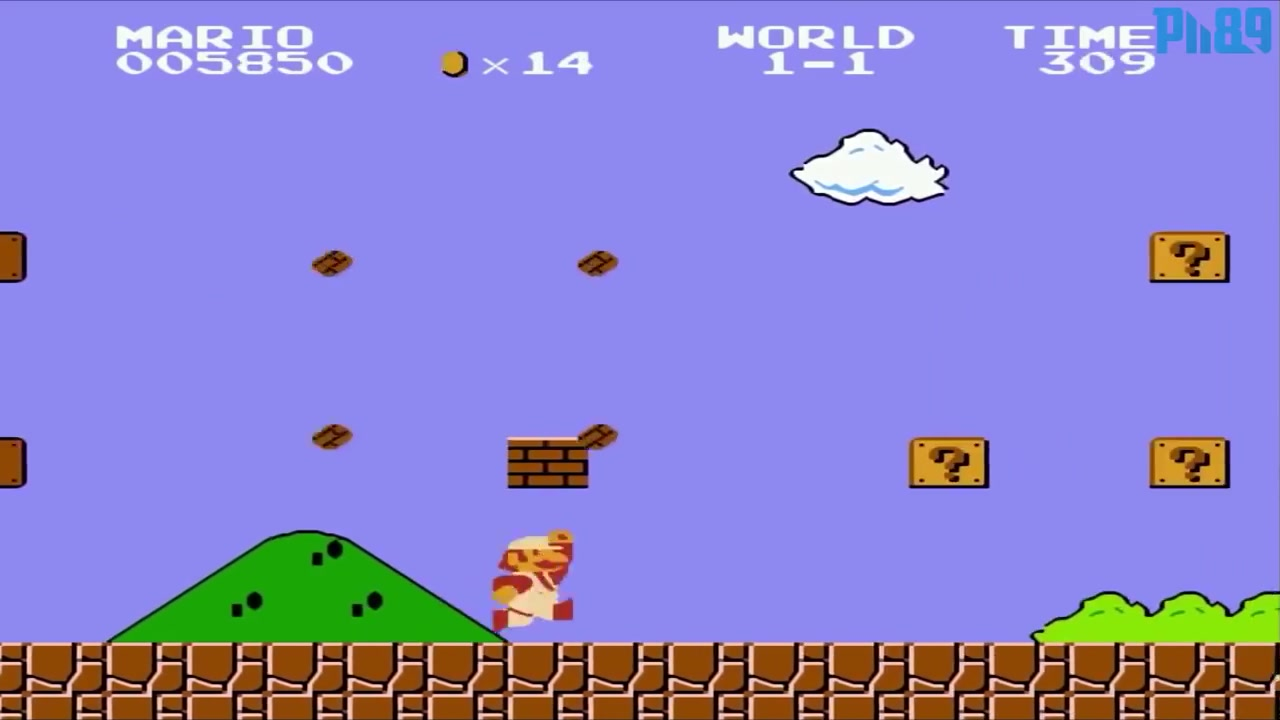mario: (484, 521, 586, 634)
